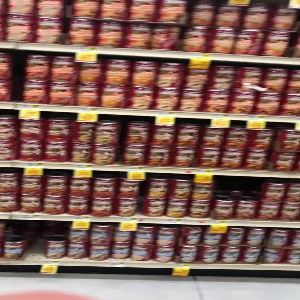void: (25, 218, 48, 264)
